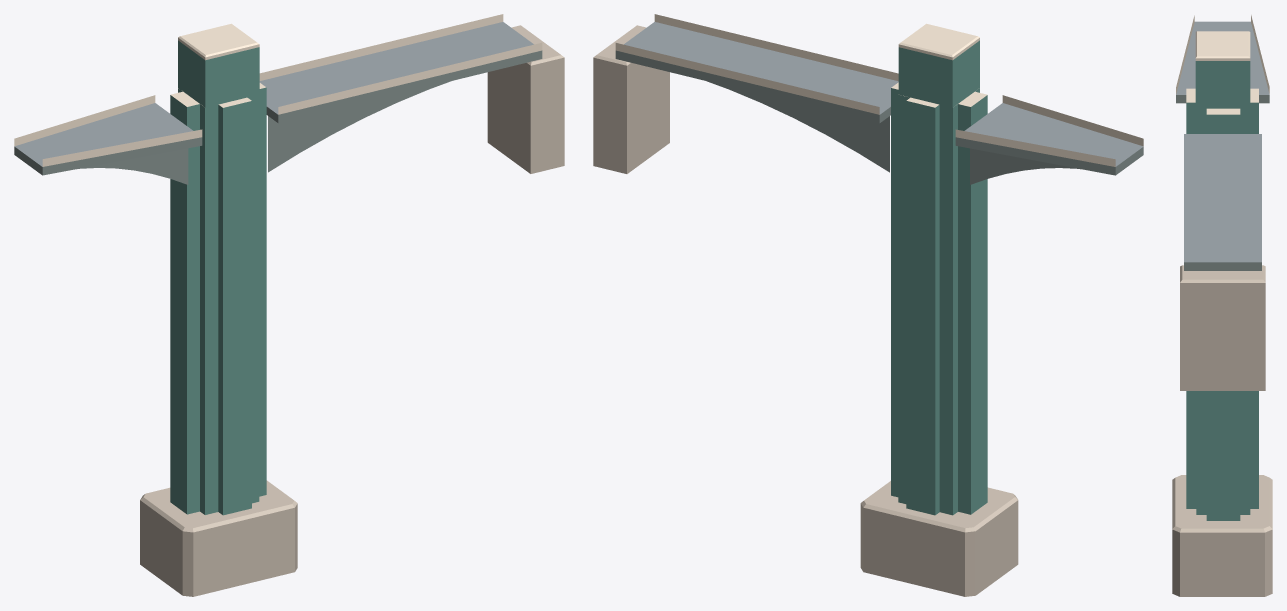
The model's file is niagara-observation-tower.glb.
3 views of the same model, side by side, from view 1: azimuth 30°, elevation 25°; view 2: azimuth 150°, elevation 25°; view 3: azimuth 270°, elevation 25° (orthographic).
Parts seen in each view (by area): view 1: Prospect Point Observation Tower; view 2: Prospect Point Observation Tower; view 3: Prospect Point Observation Tower.
Boxes of the visible parts, <box> form: Prospect Point Observation Tower: <box>14,14,564,596</box>; Prospect Point Observation Tower: <box>593,14,1143,596</box>; Prospect Point Observation Tower: <box>1172,15,1272,596</box>.
Bounding box in the file's own units: 76 × 74.3 × 12.9.
